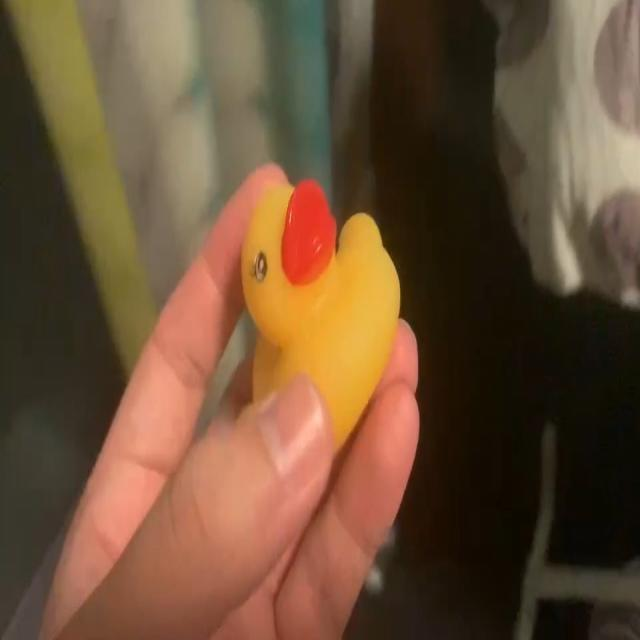rubber-duck: (241, 179, 398, 445)
